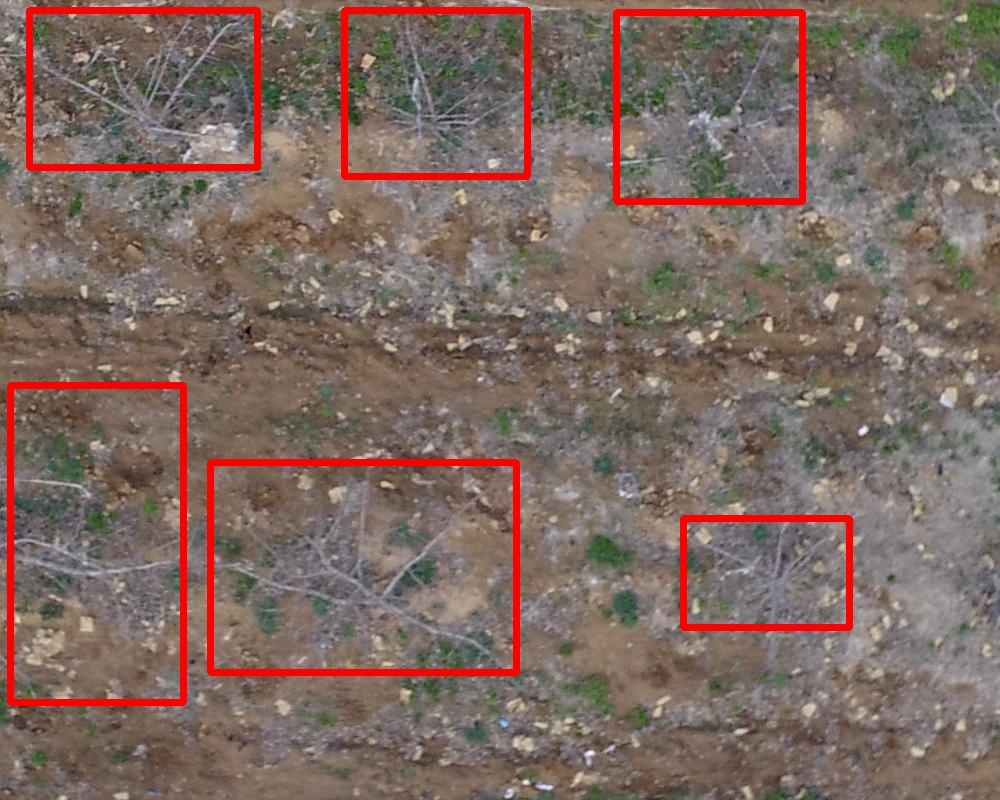apple: (210, 462, 516, 672), (10, 385, 183, 702), (29, 10, 257, 167), (616, 12, 802, 201), (344, 10, 527, 176), (683, 518, 849, 627)
